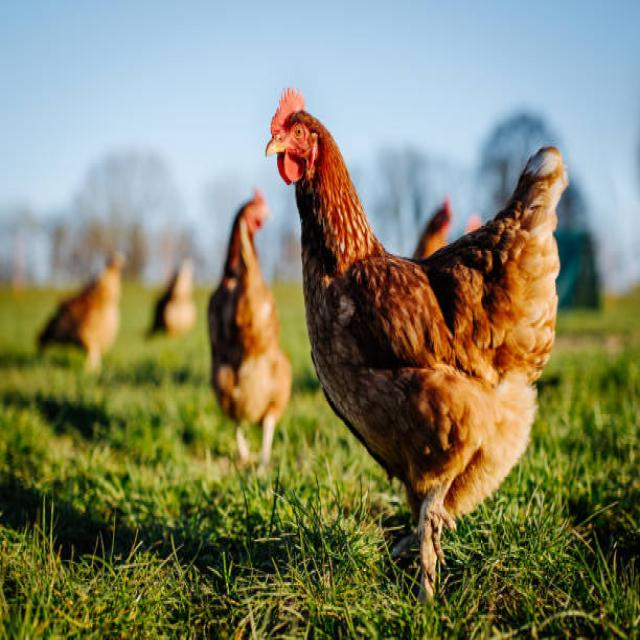Chicken: (260, 93, 602, 615), (206, 190, 299, 481)
